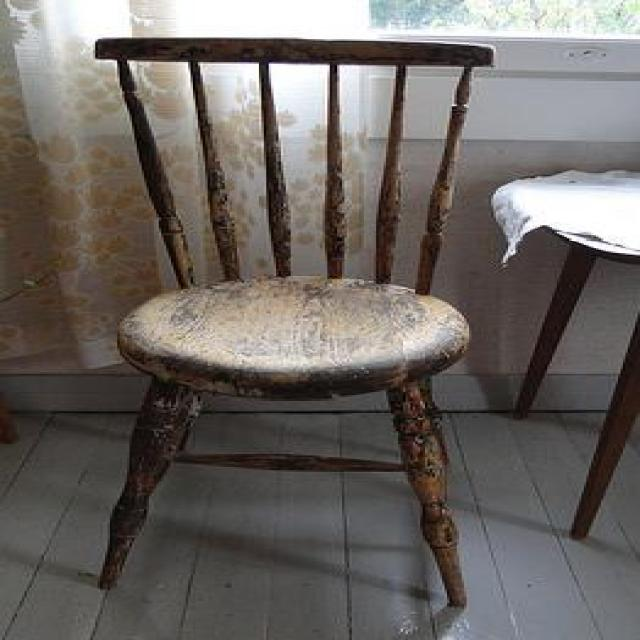chair: (90, 36, 493, 607)
